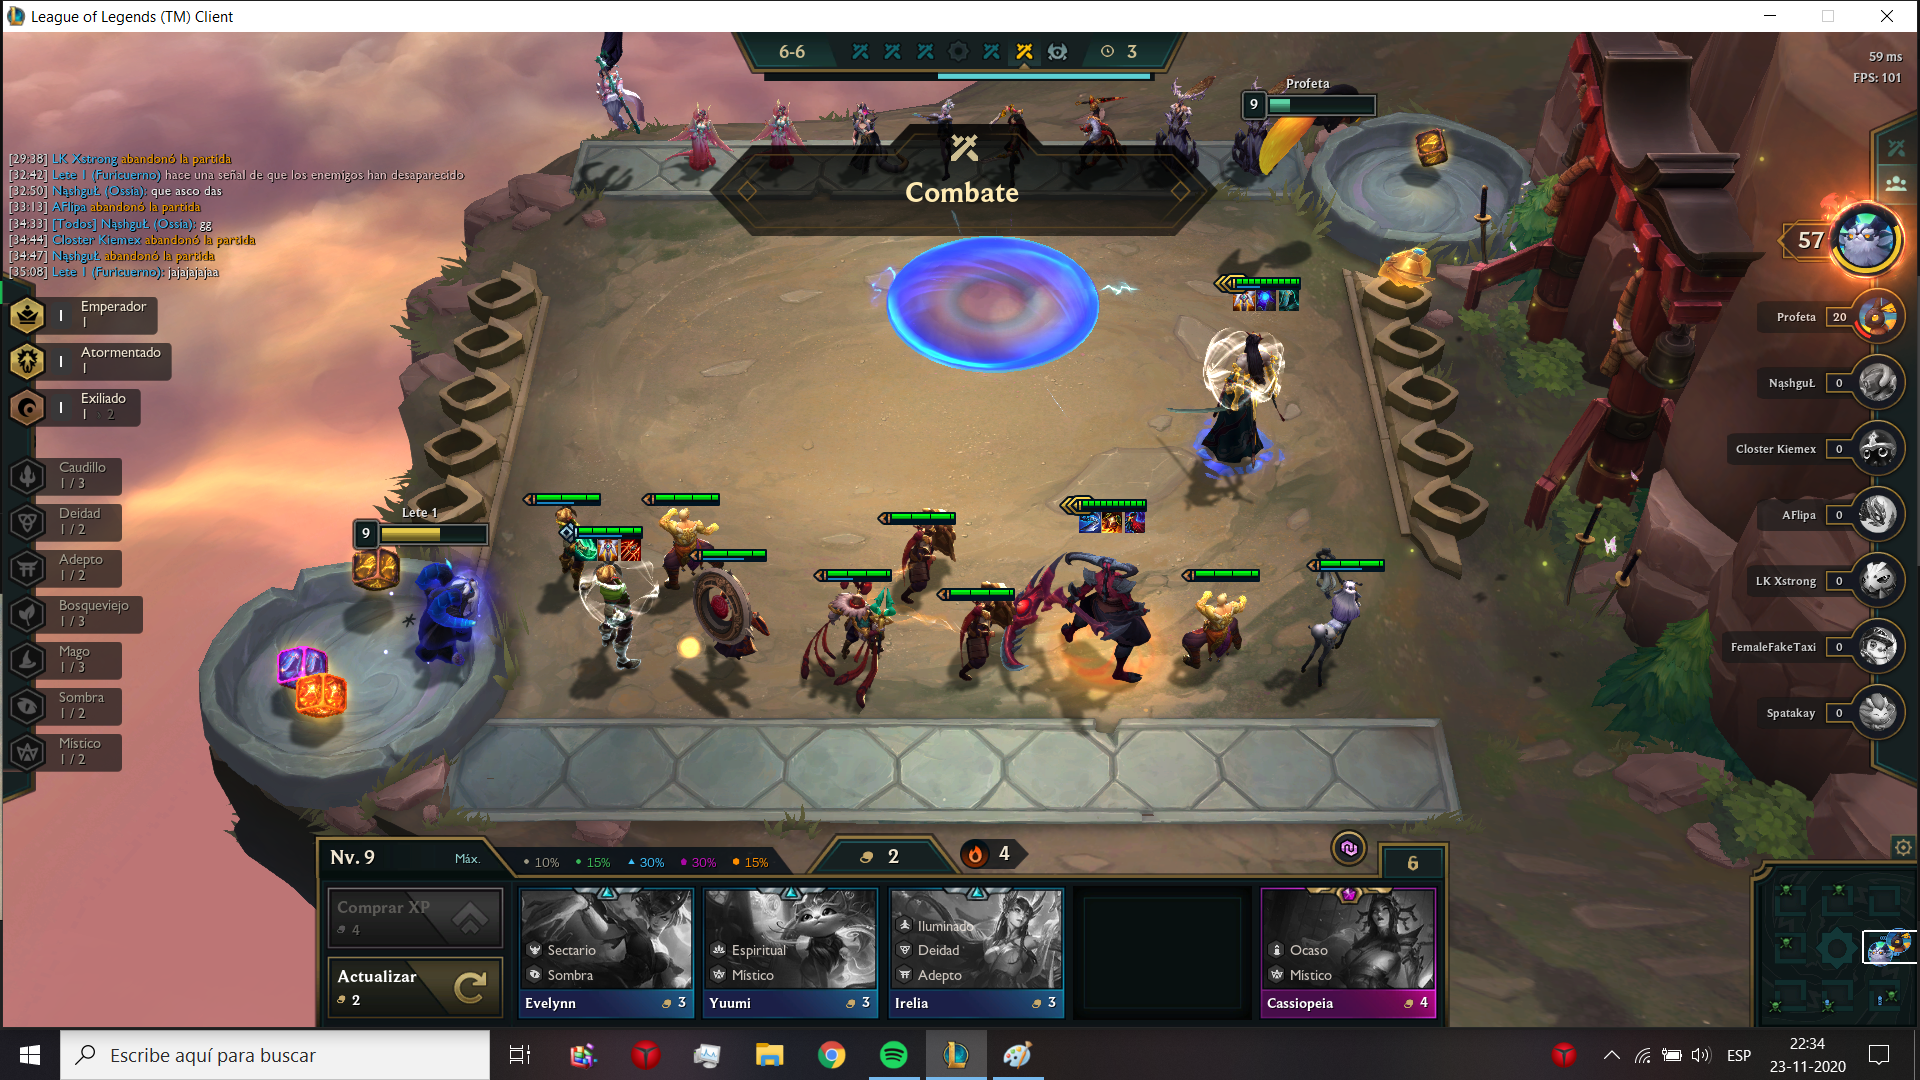1star_azir: (791, 554, 905, 717)
1star_azirsoldier: (872, 491, 971, 634), (927, 560, 1026, 704)
1star_ezreal: (514, 477, 613, 620)
1star_leesin: (1158, 553, 1276, 704), (629, 477, 746, 630)
1star_lillia: (1278, 539, 1402, 711)
1star_zilean: (676, 535, 789, 684)
2star_ezreal: (551, 517, 659, 690)
3star_kaynred: (997, 487, 1162, 704)
3star_yone: (1156, 260, 1317, 491)
item_bluebuff: (1251, 284, 1280, 314)
item_ga: (1228, 284, 1258, 315), (591, 533, 621, 564)
item_giantslayer: (1076, 504, 1106, 535)
item_quicksilver: (1276, 284, 1305, 315)
item_runaan: (615, 534, 644, 564)
item_shojin: (571, 531, 601, 562)
item_shroud: (1120, 504, 1150, 535)
item_sunfire: (1097, 505, 1127, 535)
trait_adept1: (1, 545, 178, 589)
trait_divine1: (1, 498, 178, 545)
trait_elderwood1: (1, 589, 178, 636)
trait_emperor1: (1, 293, 178, 339)
trait_exile1: (1, 385, 178, 431)
trait_mage1: (1, 637, 178, 683)
trait_mystic1: (1, 731, 178, 777)
trait_shade1: (1, 682, 178, 728)
trait_tormented1: (1, 338, 178, 382)
trait_warlord1: (1, 452, 178, 498)
